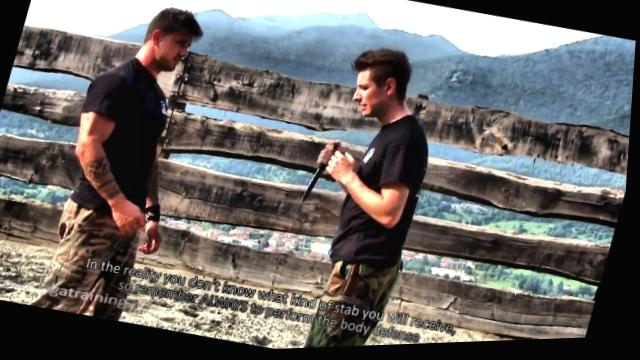knife: (299, 136, 345, 211)
